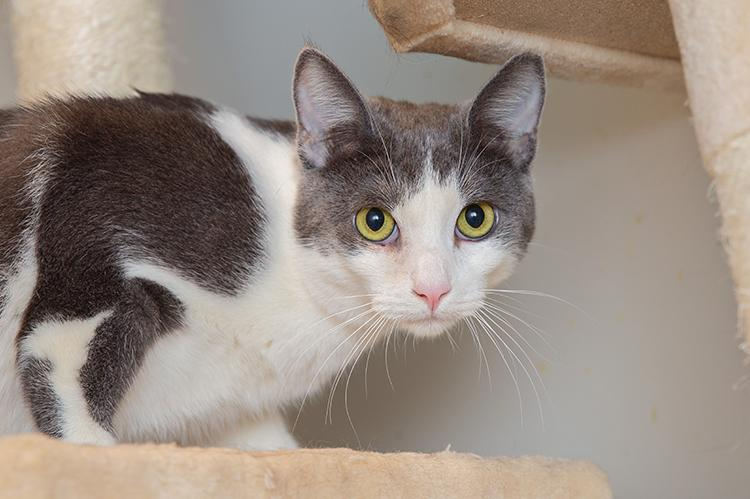cat: (54, 54, 571, 438)
